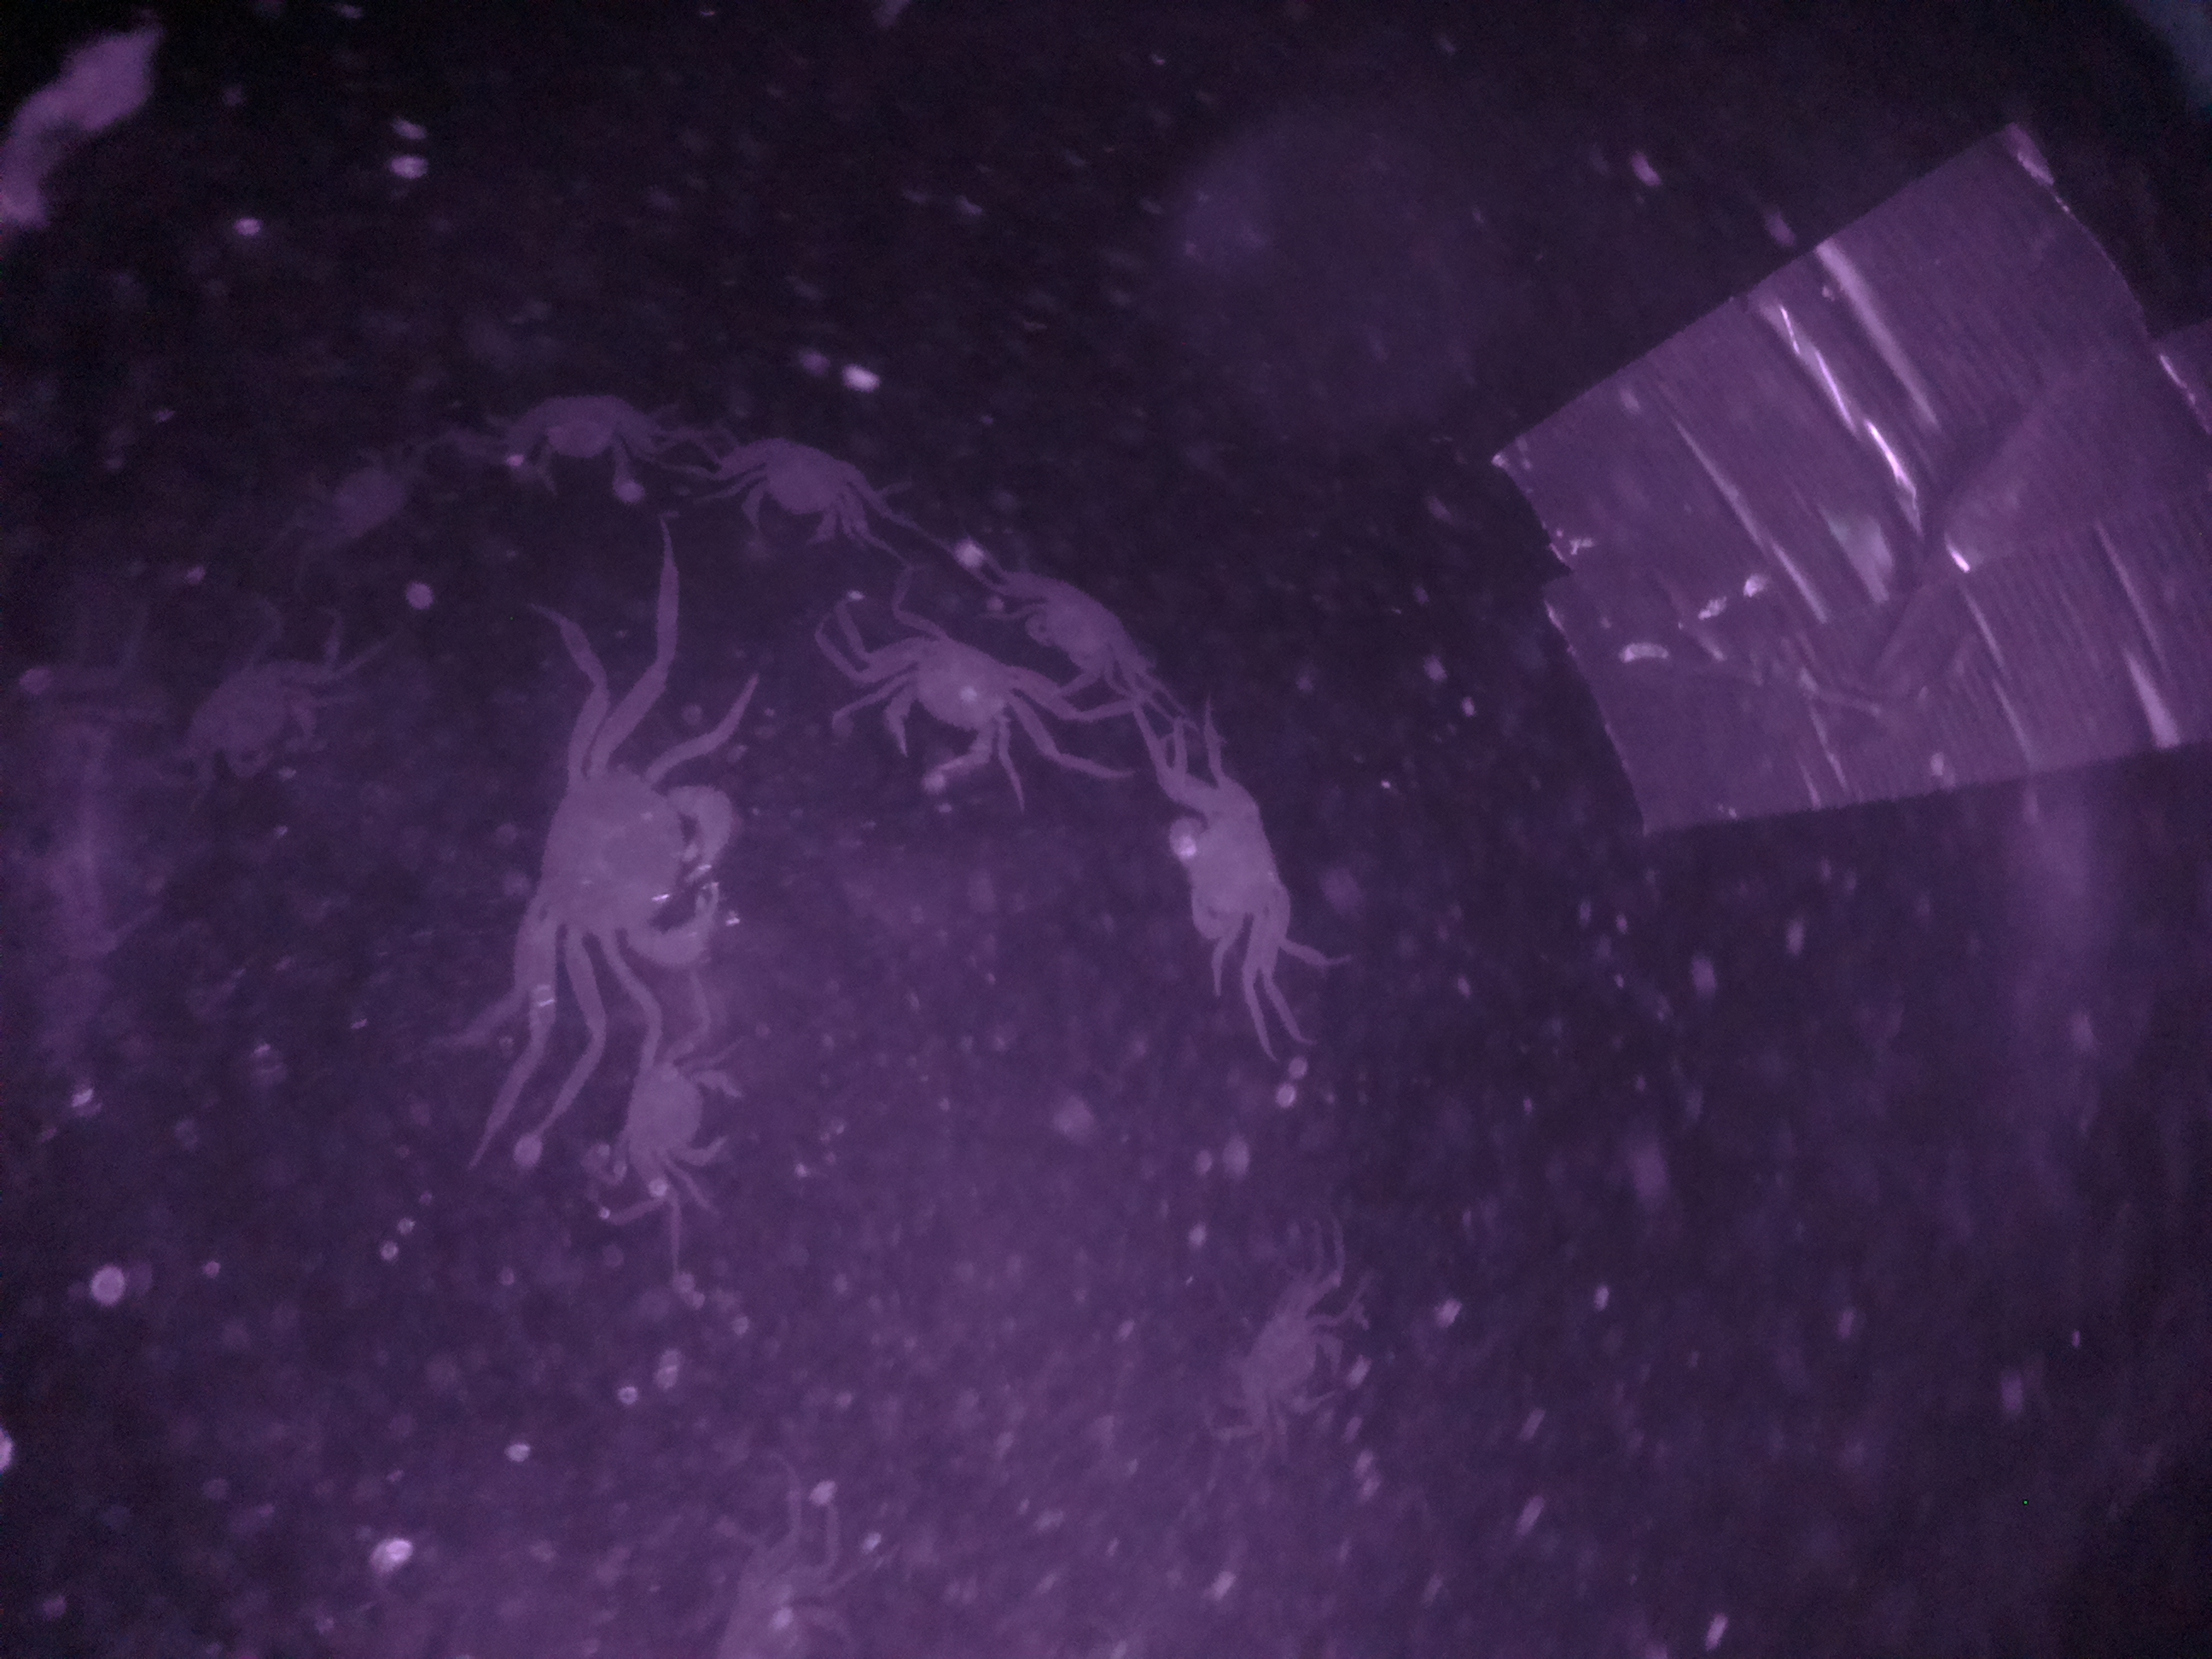Crab: (482, 739, 740, 978), (836, 627, 1038, 795), (1157, 763, 1312, 958), (594, 1035, 752, 1188), (709, 425, 888, 542), (1223, 1286, 1357, 1441)
